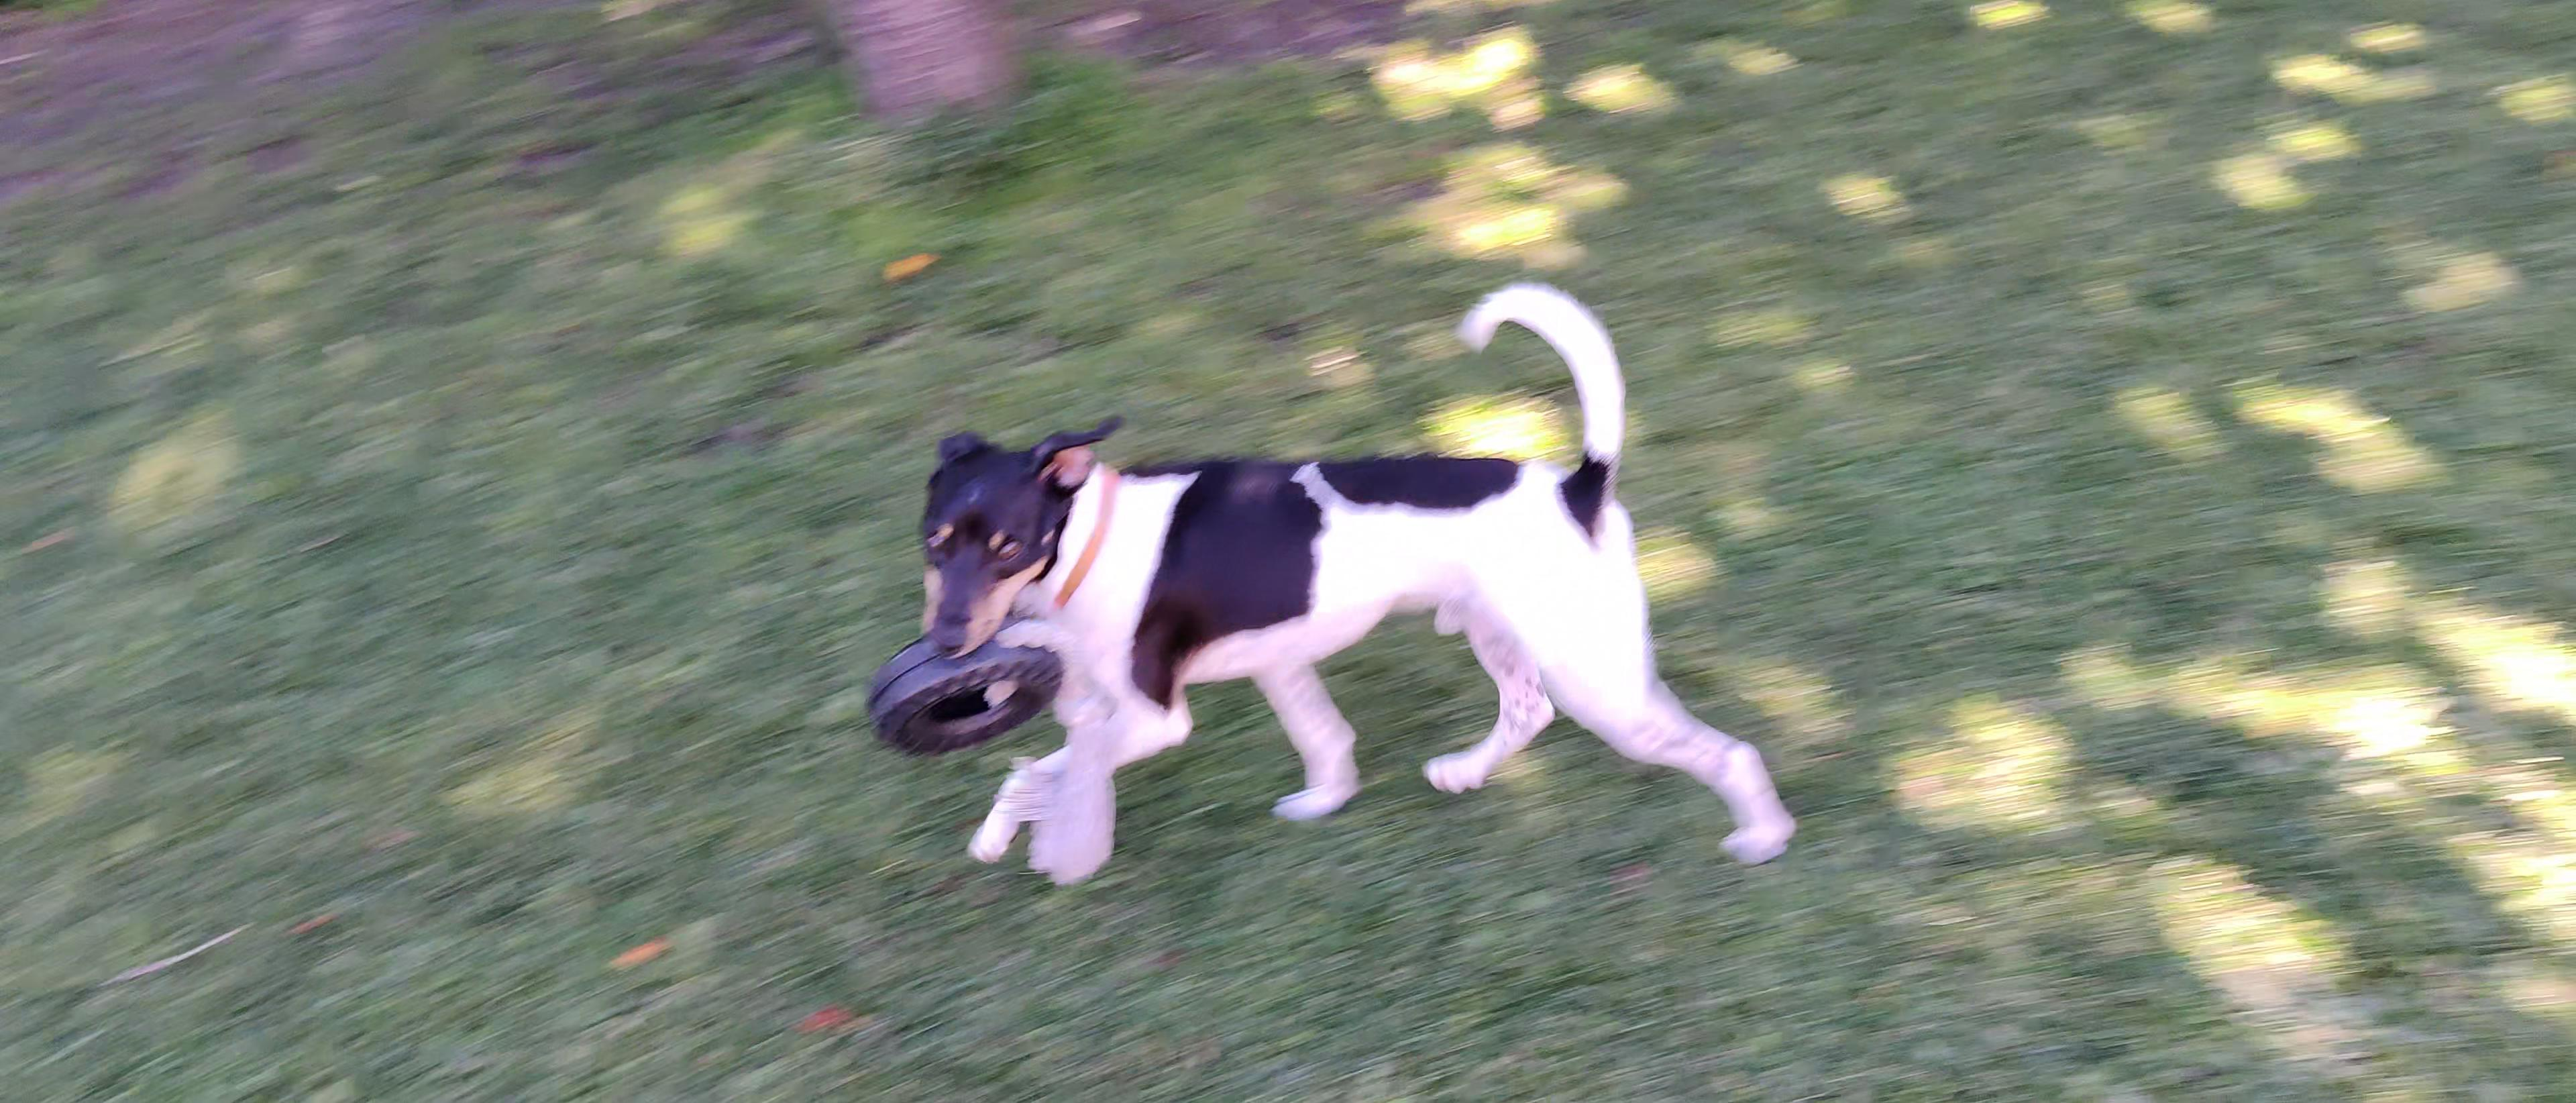Dog: (879, 271, 1815, 899)
